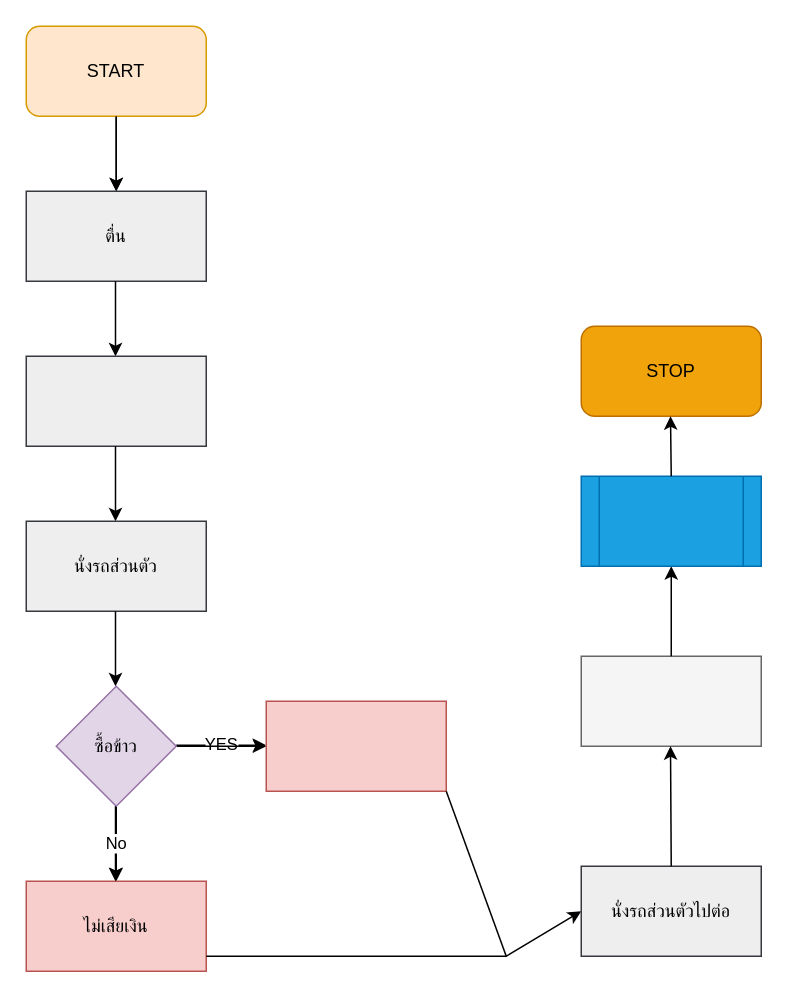
The diagram is 788 pixels wide and 998 high, and some of its shapes have lost their labels. The box of each missing label's shape, as (x1, y1, x2, y2) in pixels:
ถึงวิทยลัย: (580, 475, 761, 566)
ล้างหน้าเเปรงฟัน เเต่งตัว: (25, 355, 206, 446)
เดิน+วิ่ง: (580, 655, 761, 746)
เสียเงิน25: (265, 700, 446, 791)
